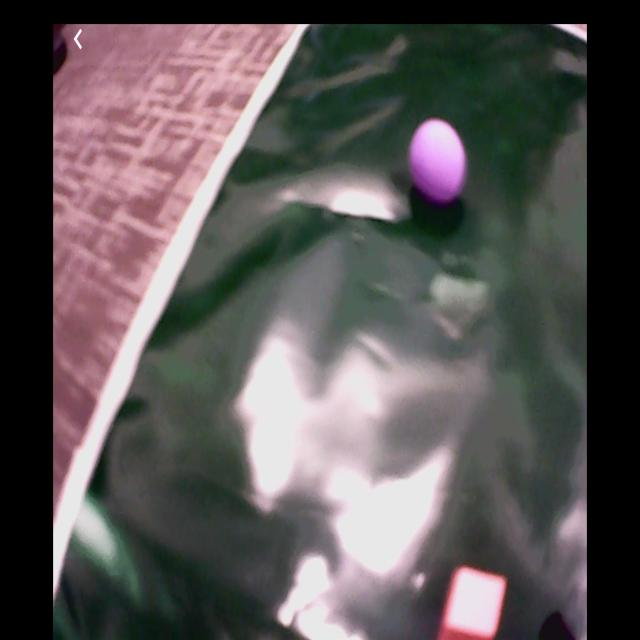ball: (410, 119, 466, 201)
